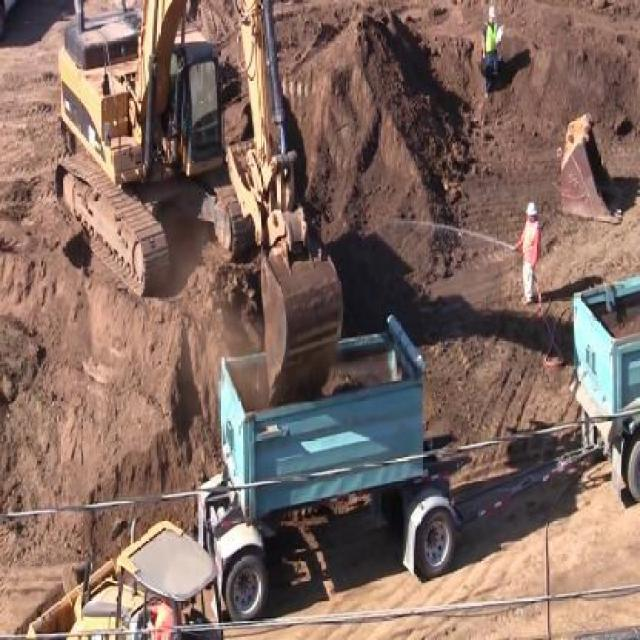Dump Truck: (201, 317, 457, 621)
Excavator: (48, 0, 344, 406)
